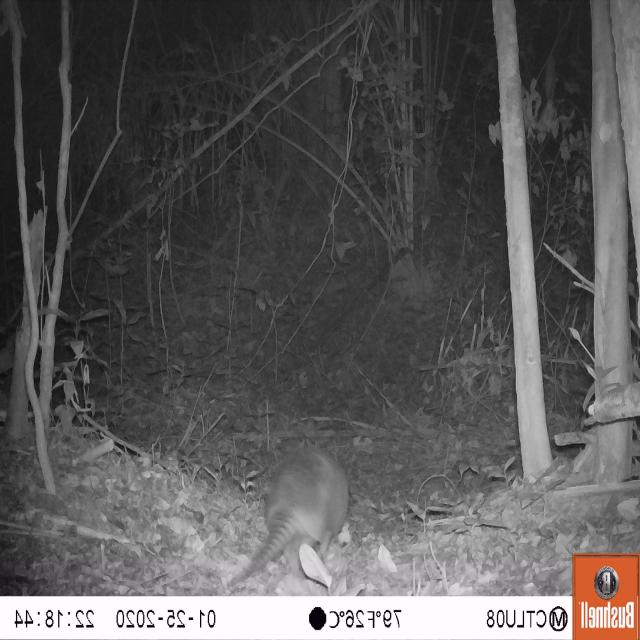Armadillo: (225, 432, 357, 591)
